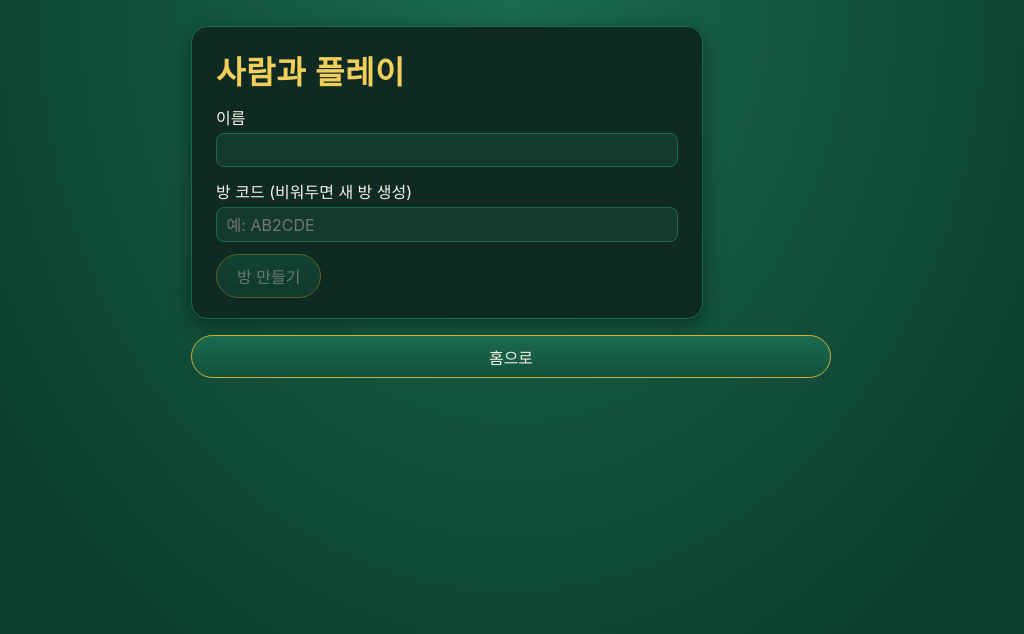
Test case: MultiplayerPage › surfaces a join error from the server
Step 1. Type "Alice" into the field labelled "이름" → (447, 150), box [216, 133, 678, 167]
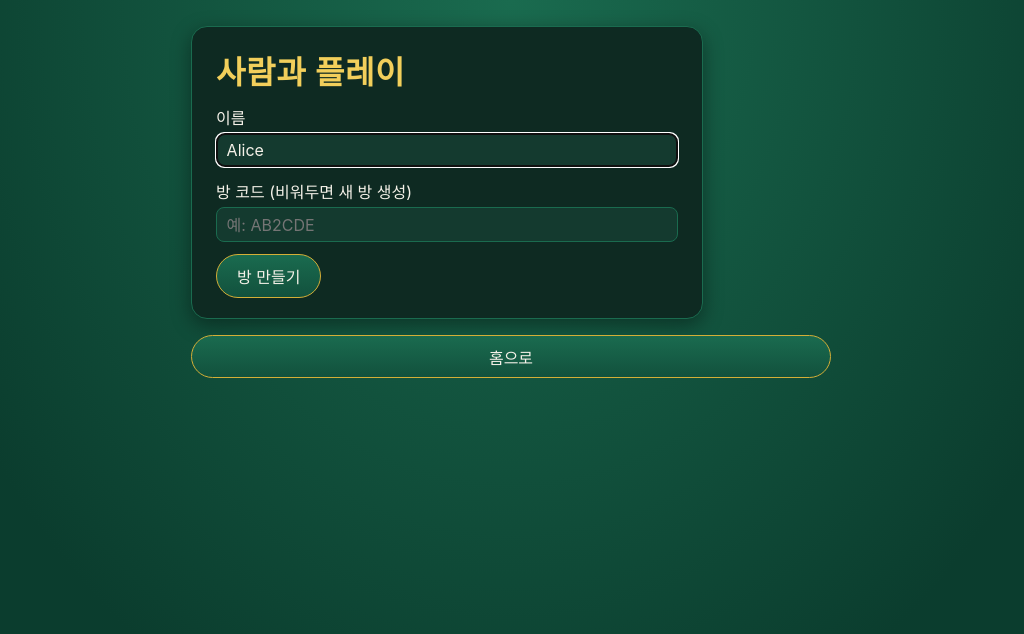
Step 2. Type "ZZZZZZ" into the field labelled "방 코드 (비워두면 새 방 생성)" → (447, 225), box [216, 207, 678, 242]
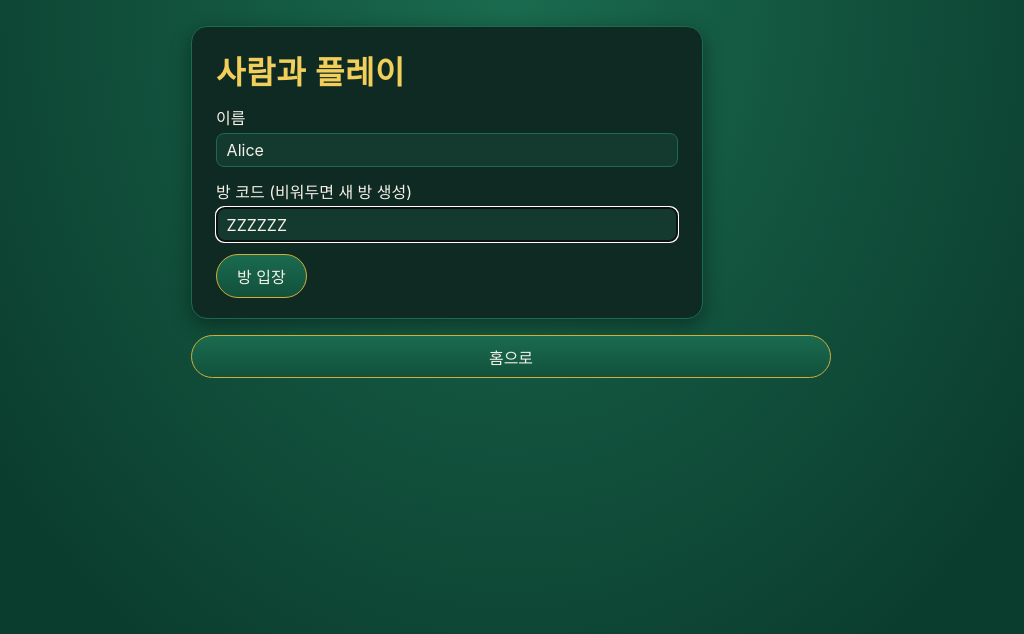
Step 3. Click the button "방 입장" → (261, 276), box [216, 254, 307, 298]
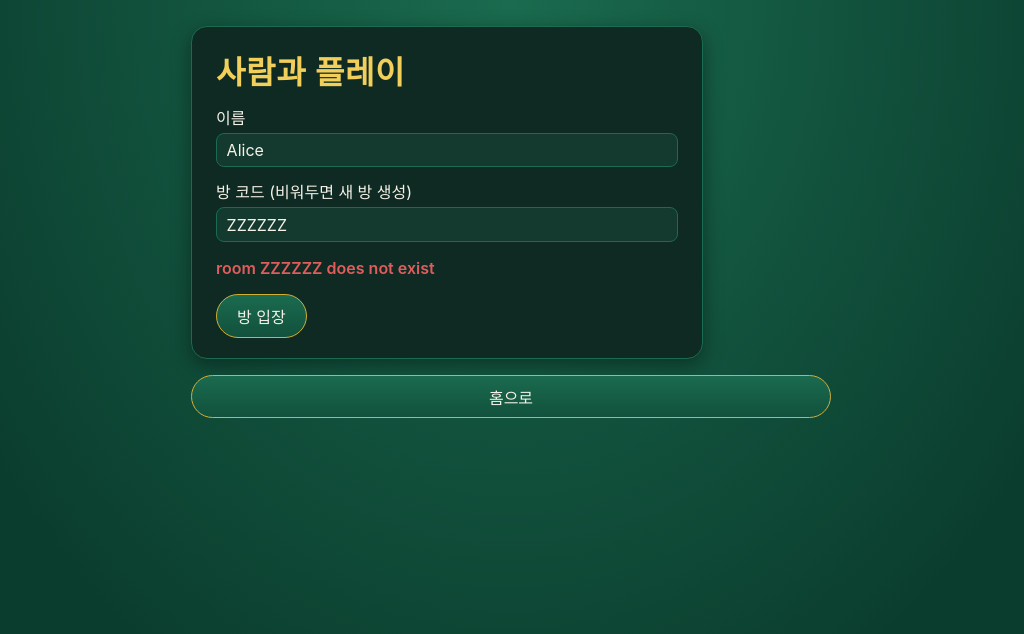
Expected: the message reads "room ZZZZZZ does not exist", [216, 258, 435, 278]
